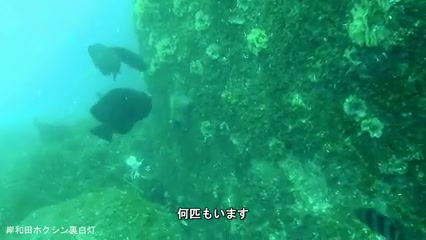smallfish: (83, 83, 156, 145)
